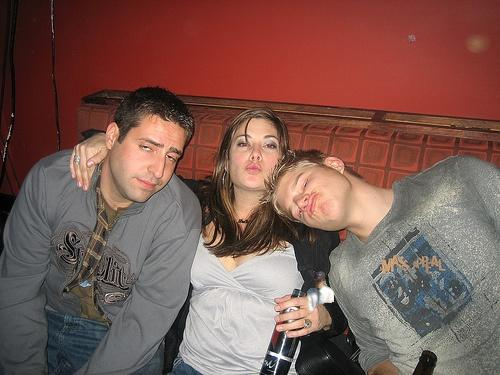tampered: (308, 272, 334, 311)
